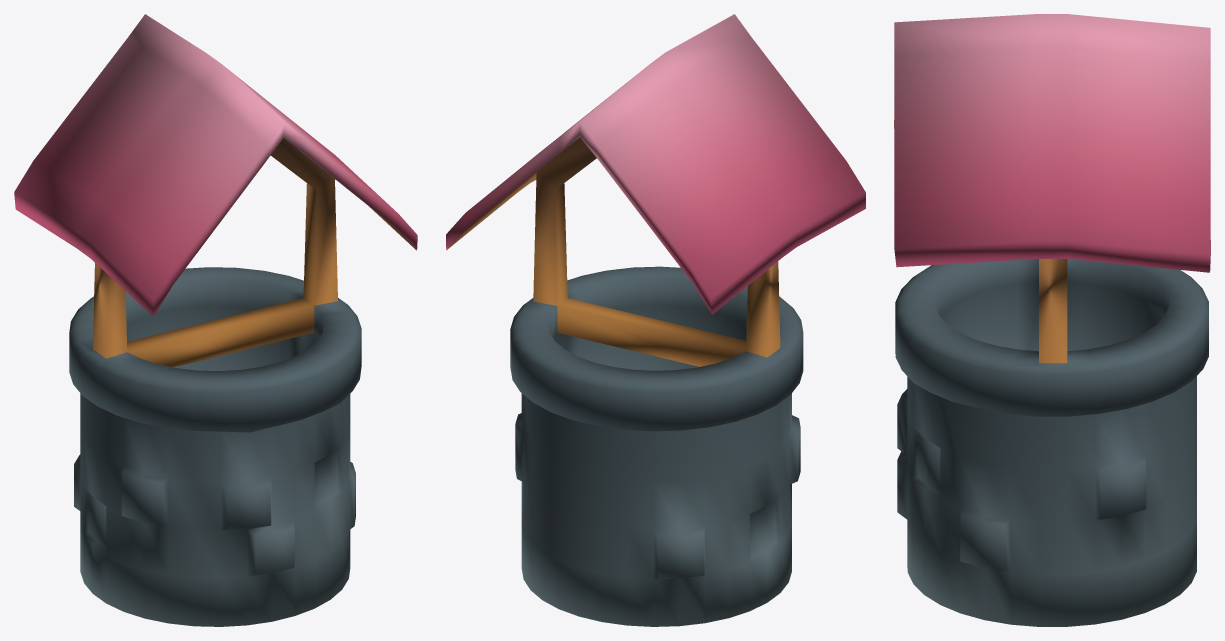
File: well.fbx
3 renders of one model, left to right at view 1: azimuth 30°, elevation 25°; view 2: azimuth 150°, elevation 25°; view 3: azimuth 270°, elevation 25°, orthographic. The views are drawn at different scales.
Parts seen in each view (by area): view 1: Well; view 2: Well; view 3: Well.
Boxes of the visible parts, x1,y1,x2,y2 form: Well: (14,14,417,626); Well: (446,14,865,626); Well: (894,14,1210,626).
Size of the model in its own units: 71.02 by 66.38 by 127.
